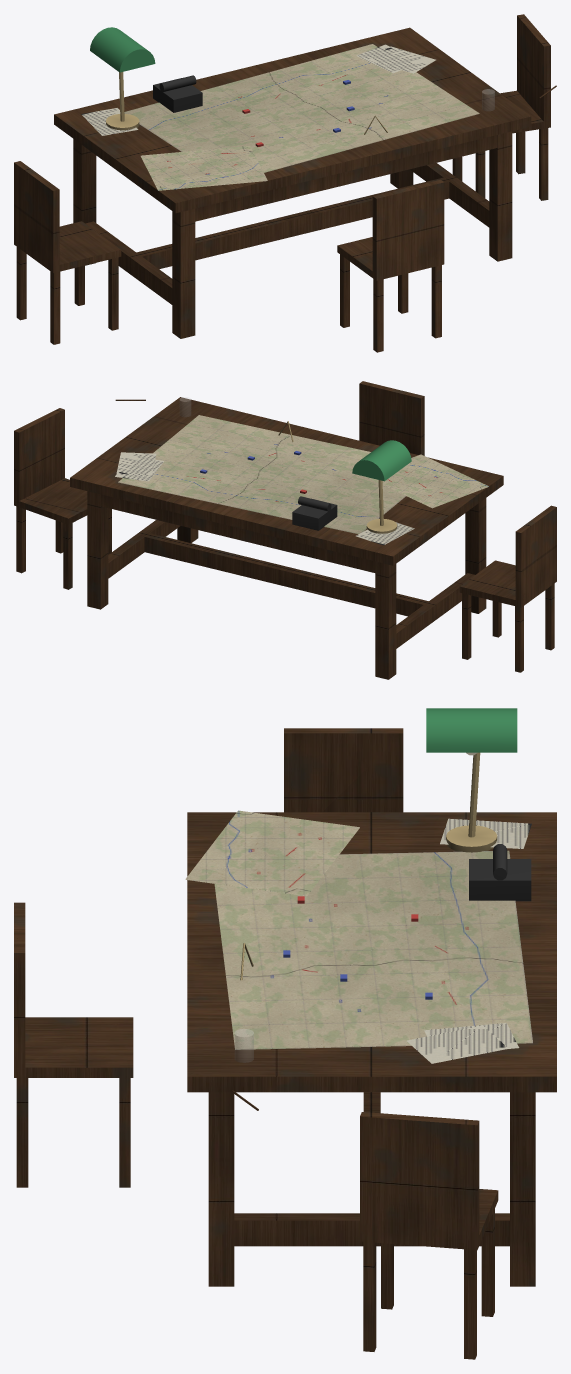
Rendered from map_table.glb.
The picture shows the model from 3 angles, top to bottom: view 1: azimuth 30°, elevation 25°; view 2: azimuth 150°, elevation 25°; view 3: azimuth 270°, elevation 25°; orthographic projection. The views are drawn at different scales.
Visible parts, largest first — view 1: MapTable; view 2: MapTable; view 3: MapTable.
Part boxes in pixels (left/top/right/bottom): MapTable: left=14, top=14, right=556, bottom=352; MapTable: left=14, top=381, right=556, bottom=679; MapTable: left=14, top=708, right=556, bottom=1359.
Bounding box in the file's own units: 3.3 × 1.36 × 1.91.
11 materials, 4 textured.
